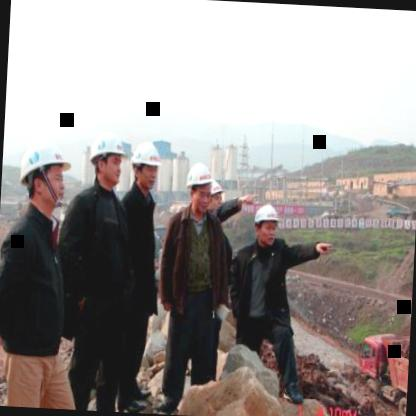helmet: (12, 132, 73, 216), (85, 126, 131, 188), (127, 136, 165, 193), (183, 156, 215, 213), (251, 198, 282, 248), (207, 177, 228, 221)
